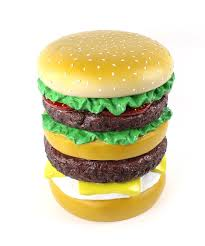hamburger: (32, 27, 179, 225)
